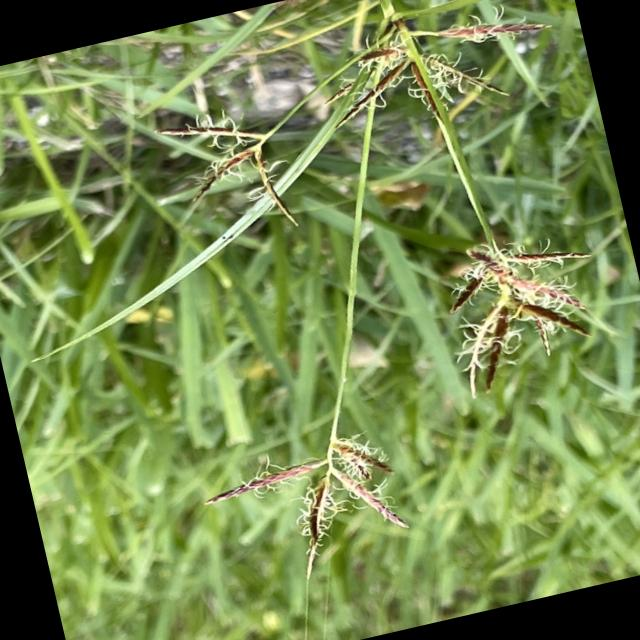cyperus: (206, 403, 426, 585), (304, 0, 564, 147), (419, 220, 611, 400), (132, 78, 304, 267)
